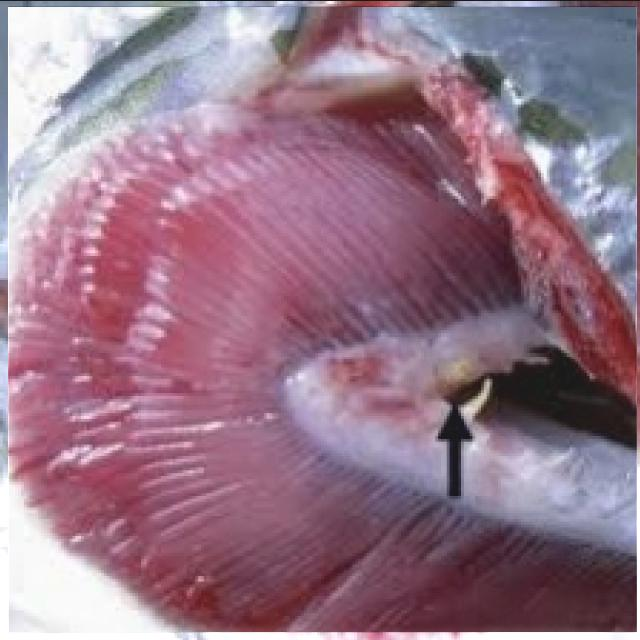Gill Disease: (9, 5, 636, 632)
